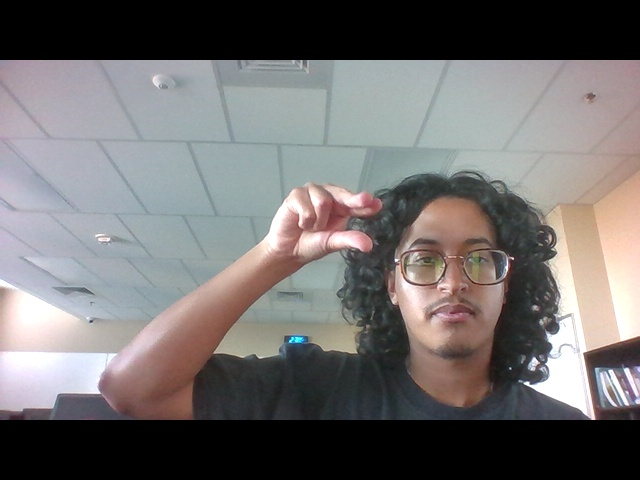no: (267, 173, 388, 277)
